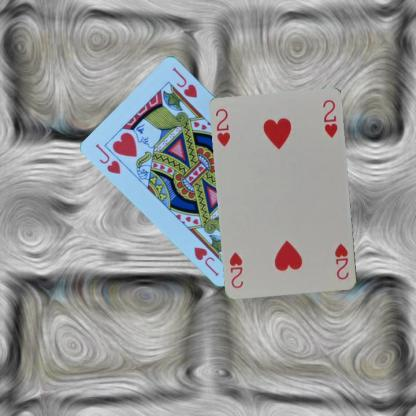2h: (212, 106, 232, 148), (332, 242, 350, 282)
Jh: (93, 141, 123, 176)
